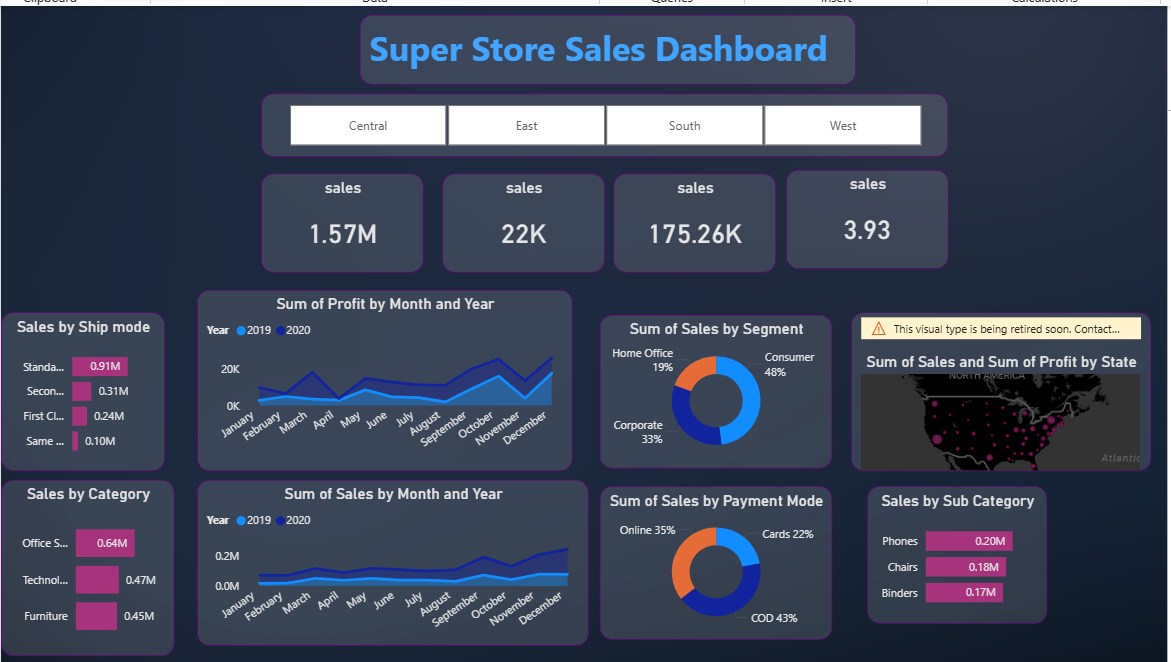

This screenshot's page, from the dashboard's own definition file:
{"tool":"powerbi","page":{"name":"Page 1","canvas":[1280,720],"ordinal":0},"visuals":[{"type":"clusteredBarChart","title":"Sales by Category","fields":{"Category":["SuperStore_Sales_Dataset.Category"],"Y":["Sum(SuperStore_Sales_Dataset.Sales)"]},"box":[0,520.1,190.7,193.5],"z":0},{"type":"clusteredBarChart","title":"Sales by Sub Category","fields":{"Category":["SuperStore_Sales_Dataset.Sub-Category"],"Y":["Sum(SuperStore_Sales_Dataset.Sales)"]},"box":[950.9,526.9,197.6,150.9],"z":1000},{"type":"clusteredBarChart","title":"Sales by Ship mode","fields":{"Category":["SuperStore_Sales_Dataset.Ship Mode"],"Y":["Sum(SuperStore_Sales_Dataset.Sales)"]},"box":[0,336.2,179.8,174.3],"z":2000},{"type":"stackedAreaChart","fields":{"Category":["SuperStore_Sales_Dataset.Order Date.Variation.Date Hierarchy.Month","SuperStore_Sales_Dataset.Order Date.Variation.Date Hierarchy.Day"],"Y":["Sum(SuperStore_Sales_Dataset.Sales)"],"Series":["SuperStore_Sales_Dataset.Order Date.Variation.Date Hierarchy.Year"]},"box":[215.4,520.1,429.5,182.5],"z":3000},{"type":"stackedAreaChart","fields":{"Category":["SuperStore_Sales_Dataset.Order Date.Variation.Date Hierarchy.Month","SuperStore_Sales_Dataset.Order Date.Variation.Date Hierarchy.Day"],"Series":["SuperStore_Sales_Dataset.Order Date.Variation.Date Hierarchy.Year"],"Y":["Sum(SuperStore_Sales_Dataset.Profit)"]},"box":[215.4,311.5,411.7,199],"z":4000},{"type":"map","fields":{"Category":["SuperStore_Sales_Dataset.State"],"Size":["Sum(SuperStore_Sales_Dataset.Sales)"]},"box":[933.1,336.2,329.3,171.5],"z":5000},{"type":"donutChart","fields":{"Category":["SuperStore_Sales_Dataset.Segment"],"Y":["Sum(SuperStore_Sales_Dataset.Sales)"]},"box":[657.3,338.9,255.2,168.8],"z":6000},{"type":"slicer","fields":{"Values":["SuperStore_Sales_Dataset.Region"]},"box":[285.4,96.1,754.7,70],"z":7000},{"type":"textbox","box":[393.8,9.6,544.8,76.8],"z":8000},{"type":"card","title":"sales","fields":{"Values":["Sum(SuperStore_Sales_Dataset.Sales)"]},"box":[285.4,183.9,178.4,108.4],"z":9000},{"type":"card","title":"sales","fields":{"Values":["Avg(SuperStore_Sales_Dataset.AvgDelievery)"]},"box":[861.8,179.8,178.4,108.4],"z":9001},{"type":"card","title":"sales","fields":{"Values":["Sum(SuperStore_Sales_Dataset.Profit)"]},"box":[672.4,183.9,178.4,108.4],"z":9002},{"type":"card","title":"sales","fields":{"Values":["Sum(SuperStore_Sales_Dataset.Quantity)"]},"box":[484.4,183.9,178.4,108.4],"z":9003},{"type":"donutChart","fields":{"Y":["Sum(SuperStore_Sales_Dataset.Sales)"],"Series":["SuperStore_Sales_Dataset.Payment Mode"]},"box":[657.3,526.9,255.2,168.8],"z":9004}]}

Visuals, with their boxes on the page's 1280x720 design canvas (x1, y1, x2, y2). These are canvas units, not pixel positions in the 1171x662 screenshot, which may show the page scaled, cropped or inside an application window:
"Sales by Category" clusteredBarChart: <box>0,520,191,714</box>
"Sales by Sub Category" clusteredBarChart: <box>951,527,1148,678</box>
"Sales by Ship mode" clusteredBarChart: <box>0,336,180,510</box>
stackedAreaChart - SuperStore_Sales_Dataset.Order Date.Variation.Date Hierarchy.Month x SuperStore_Sales_Dataset.Order Date.Variation.Date Hierarchy.Day: <box>215,520,645,703</box>
stackedAreaChart - SuperStore_Sales_Dataset.Order Date.Variation.Date Hierarchy.Month x SuperStore_Sales_Dataset.Order Date.Variation.Date Hierarchy.Day: <box>215,312,627,510</box>
map - SuperStore_Sales_Dataset.State x Sum(SuperStore_Sales_Dataset.Sales): <box>933,336,1262,508</box>
donutChart - SuperStore_Sales_Dataset.Segment x Sum(SuperStore_Sales_Dataset.Sales): <box>657,339,912,508</box>
slicer - SuperStore_Sales_Dataset.Region: <box>285,96,1040,166</box>
textbox: <box>394,10,939,86</box>
"sales" card: <box>285,184,464,292</box>
"sales" card: <box>862,180,1040,288</box>
"sales" card: <box>672,184,851,292</box>
"sales" card: <box>484,184,663,292</box>
donutChart - Sum(SuperStore_Sales_Dataset.Sales) x SuperStore_Sales_Dataset.Payment Mode: <box>657,527,912,696</box>
